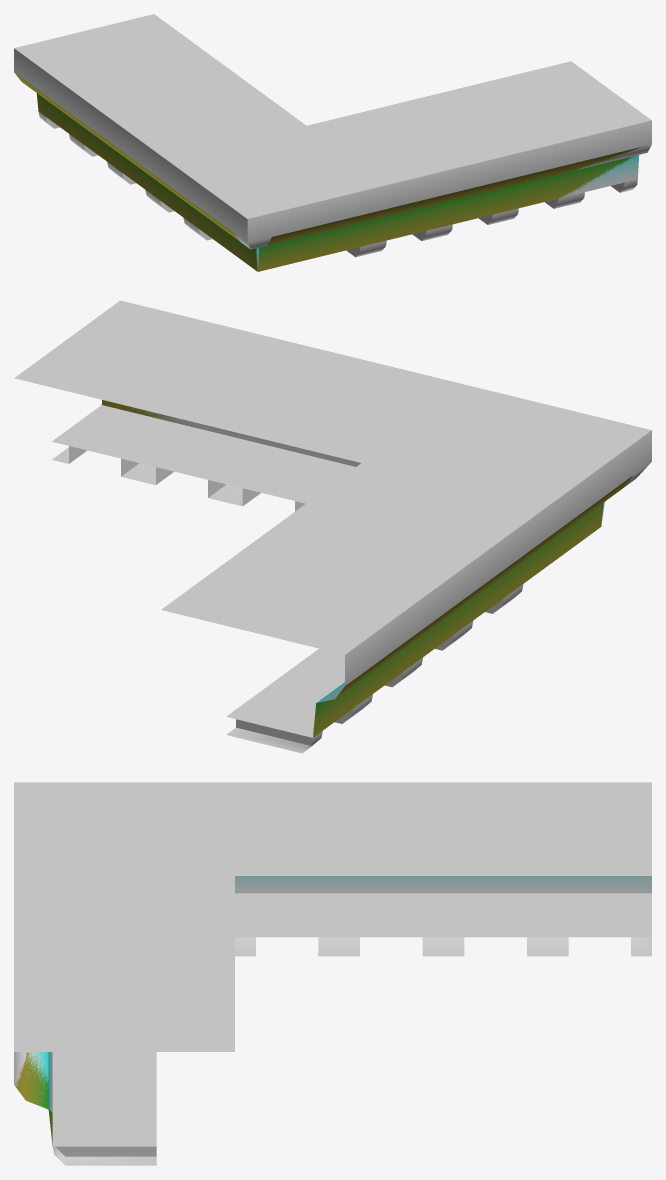
The model's file is SM_CorniceACorner2m.fbx.
The picture shows the model from 3 angles, top to bottom: view 1: azimuth 30°, elevation 25°; view 2: azimuth 150°, elevation 25°; view 3: azimuth 270°, elevation 25°; orthographic projection. The views are drawn at different scales.
Visible parts, largest first — view 1: SM_CorniceACorner2m; view 2: SM_CorniceACorner2m; view 3: SM_CorniceACorner2m.
Boxes of the visible parts, x1,y1,x2,y2 form: SM_CorniceACorner2m: (14, 14, 651, 271); SM_CorniceACorner2m: (14, 300, 651, 753); SM_CorniceACorner2m: (14, 782, 651, 1165).
Bounding box in the file's own units: 306 × 60 × 306.
